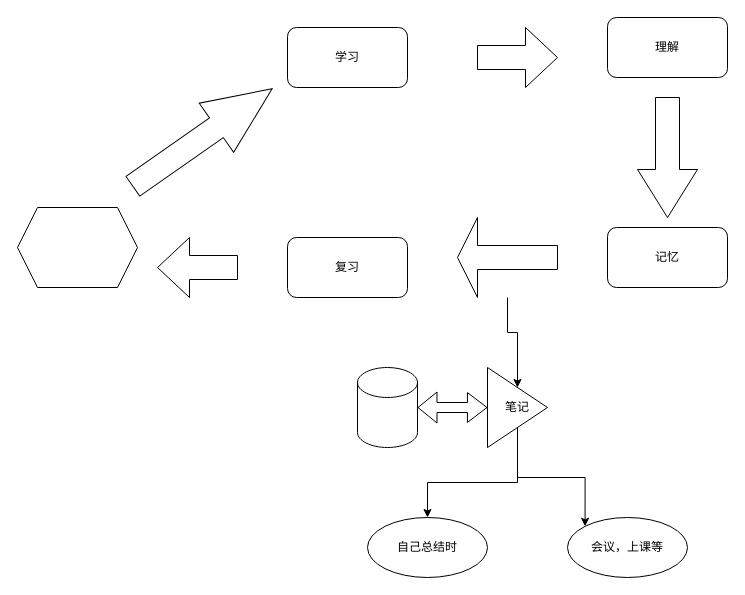
Some shapes in this 745 by 595 pixel diagram are drawn without their labels. Each missing label, with the centre of its shape:
"应用" goes at point (77, 247).
"整理" goes at point (507, 257).
"笔记存储" goes at point (387, 407).
